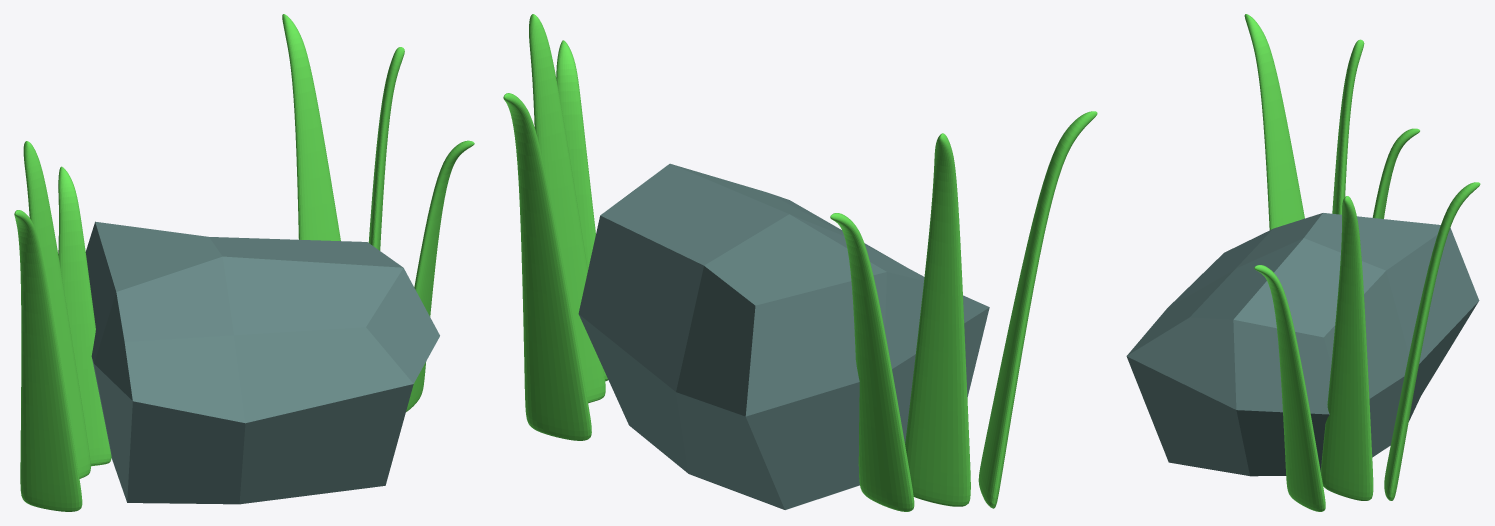
Rendered from rock.fbx.
3 renders of one model, left to right at view 1: azimuth 30°, elevation 25°; view 2: azimuth 150°, elevation 25°; view 3: azimuth 270°, elevation 25°, orthographic. The views are drawn at different scales.
Visible parts, largest first — view 1: Cube.005, Plane.039, Plane.040, Plane.026, Plane.041, Plane.037, Plane.038; view 2: Cube.005, Plane.041, Plane.026, Plane.040, Plane.038, Plane.039, Plane.037; view 3: Cube.005, Plane.038, Plane.037, Plane.039, Plane.026, Plane.041, Plane.040.
Boxes of the visible parts, box(x1,y1,x2,y2) form: Cube.005: box(85, 221, 439, 504); Plane.039: box(14, 210, 82, 511); Plane.040: box(58, 166, 111, 466); Plane.026: box(282, 14, 340, 240); Plane.041: box(23, 141, 90, 478); Plane.037: box(406, 140, 474, 411); Plane.038: box(368, 47, 404, 250); Cube.005: box(578, 163, 989, 509); Plane.041: box(905, 133, 970, 506); Plane.026: box(503, 93, 591, 440); Plane.040: box(830, 213, 914, 511); Plane.038: box(529, 14, 605, 403); Plane.039: box(978, 111, 1097, 508); Plane.037: box(556, 40, 608, 381); Cube.005: box(1126, 213, 1479, 476); Plane.038: box(1321, 196, 1373, 500); Plane.037: box(1254, 265, 1325, 511); Plane.039: box(1244, 14, 1304, 229); Plane.026: box(1384, 182, 1480, 500); Plane.041: box(1332, 39, 1364, 214); Plane.040: box(1372, 128, 1419, 218).
Size of the model in its own units: 340 by 246 by 242.
